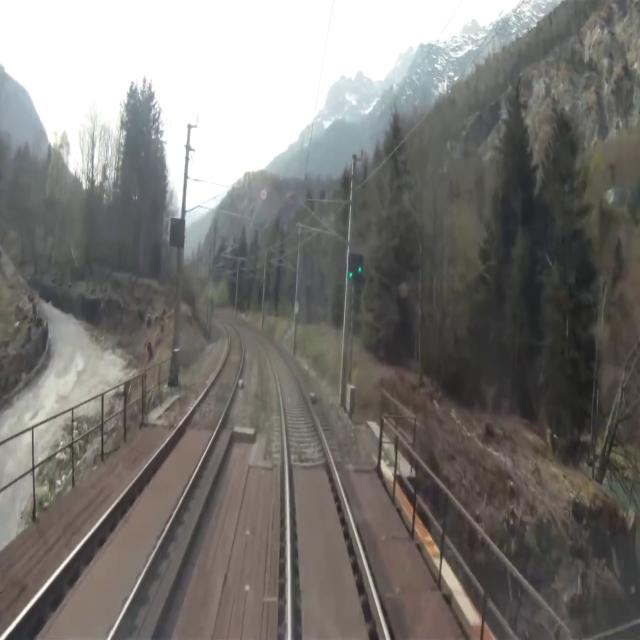rail-track: (5, 322, 241, 639), (255, 332, 386, 639)
